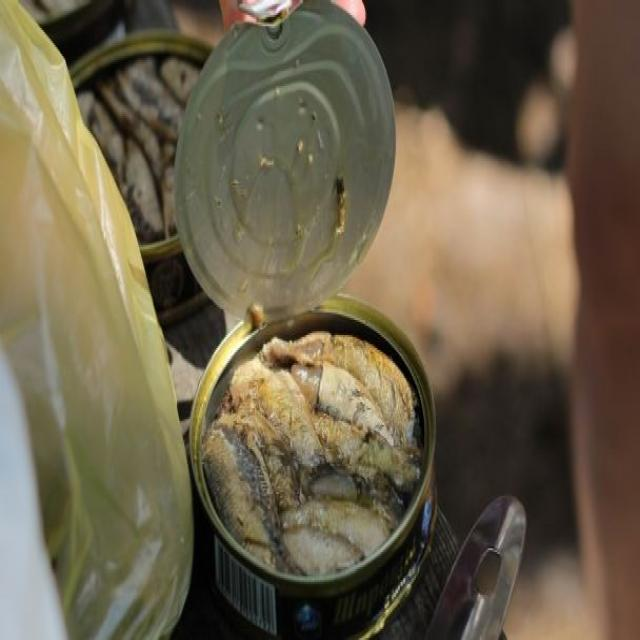Lata: (175, 3, 436, 631)
